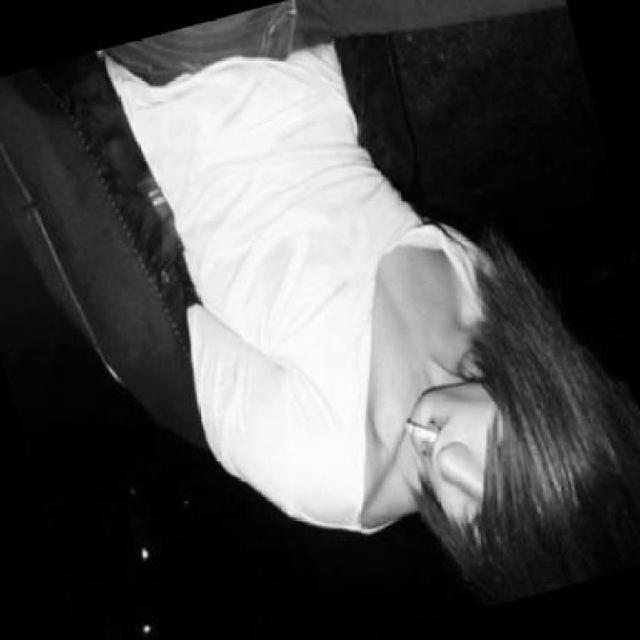cigarette: (400, 410, 440, 448)
